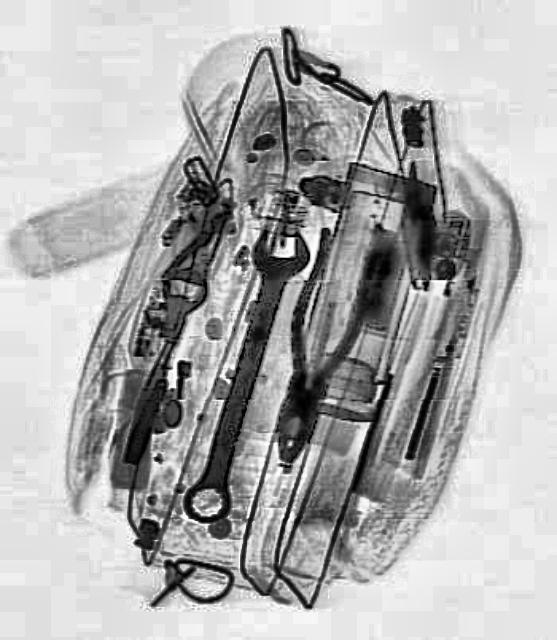Pliers: (249, 206, 387, 470)
Wrench: (171, 218, 313, 528)
